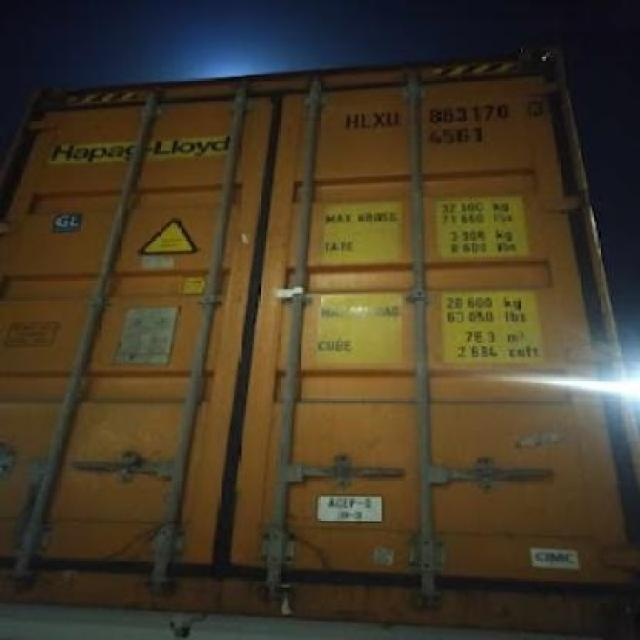ISO: (432, 126, 485, 146)
container_number: (348, 96, 522, 125)
